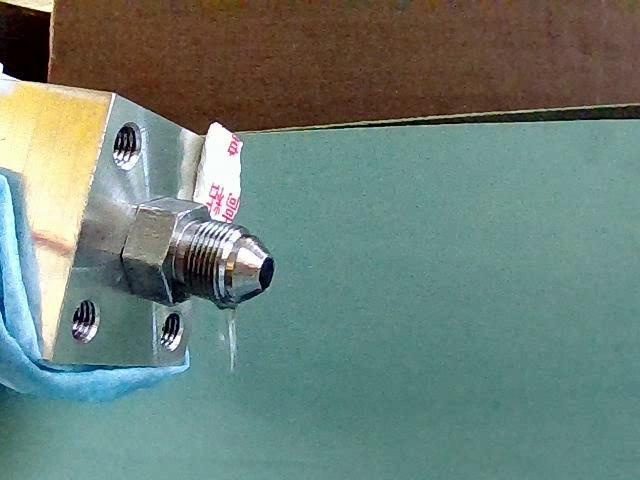water drop: (215, 299, 238, 371)
